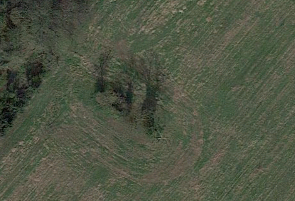tree: (96, 84, 131, 114)
